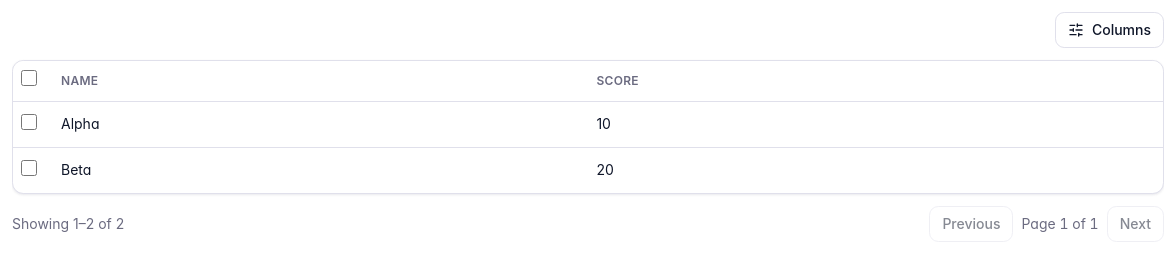
Test case: DataTable › selects all rows on the page and surfaces the bulk-action count
This screenshot has width=1176, height=259.
Click the checkbox named "Select all on page" at (29, 78), box [21,70,37,86]
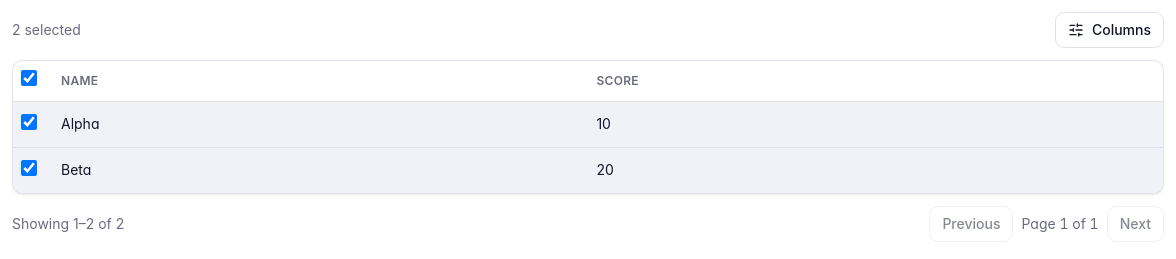
Expected: the text "2 selected" is shown, [12,20,81,40]
